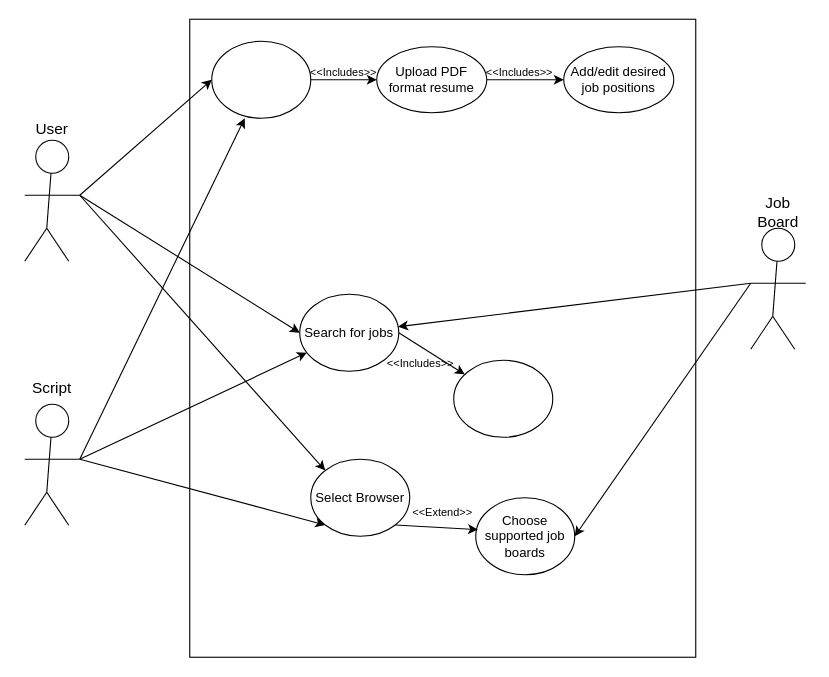
Image size: 829x677. Some labels were removed from this diagram. The centre of each missing label's shape, as x and y in pixels:
"Add/edit personal info" belongs at pixel 261 79.
"Confirm applications" belongs at pixel 503 398.
